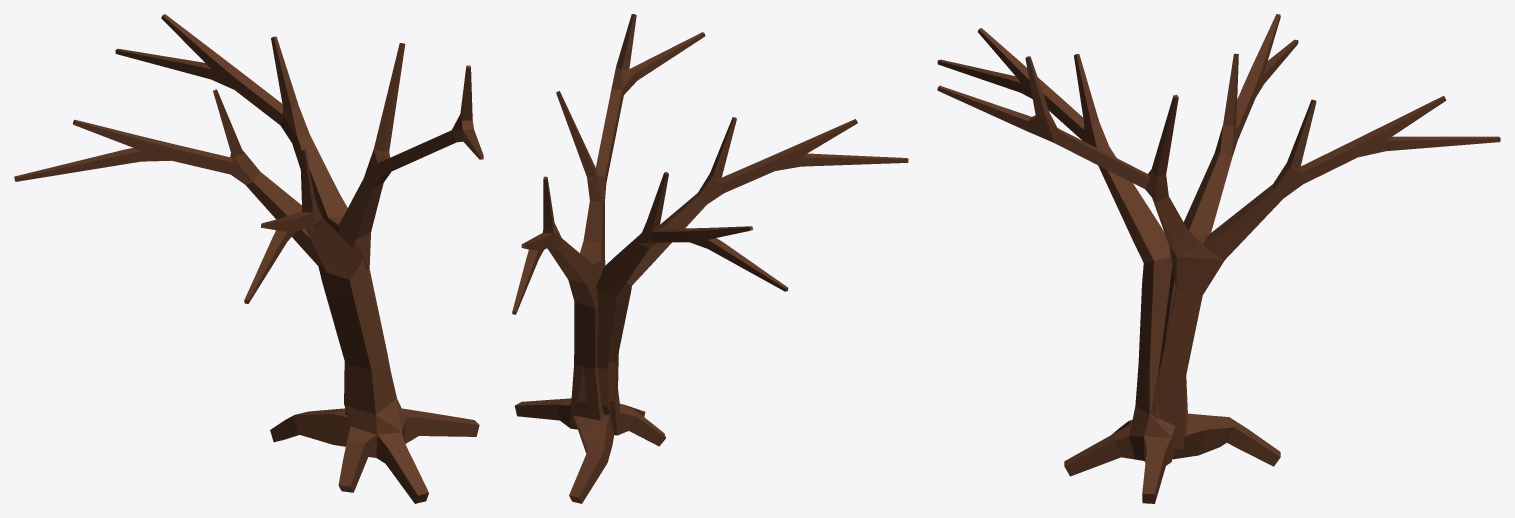
The model's file is tree.fbx.
3 views of the same model, side by side, from view 1: azimuth 30°, elevation 25°; view 2: azimuth 150°, elevation 25°; view 3: azimuth 270°, elevation 25° (orthographic). The views are drawn at different scales.
Visible parts, largest first — view 1: Cube.001; view 2: Cube.001; view 3: Cube.001.
Boxes of the visible parts, x1,y1,x2,y2 form: Cube.001: [14, 14, 483, 503]; Cube.001: [512, 14, 908, 503]; Cube.001: [937, 14, 1500, 503].
Size of the model in its own units: 356 by 398 by 466.
